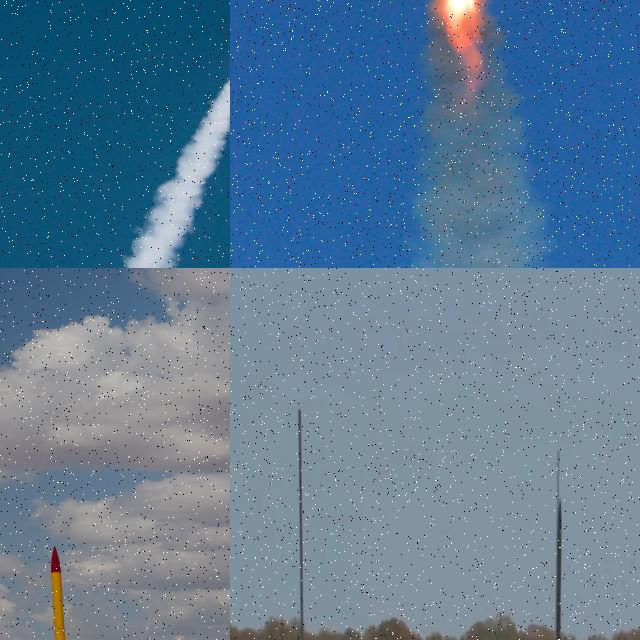Rocket: (50, 545, 76, 640), (554, 501, 563, 640)
